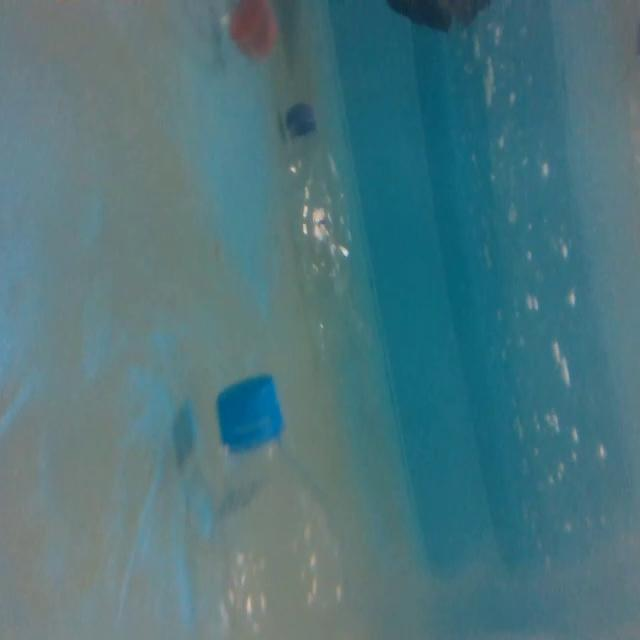plastic bottle: (198, 369, 357, 640), (276, 96, 369, 369)
